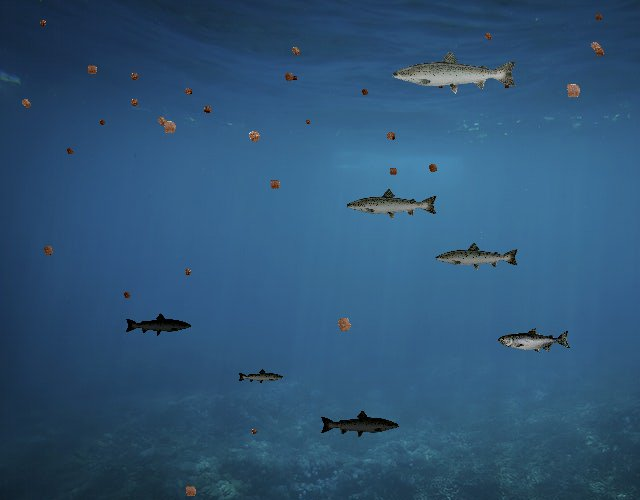Fish: (390, 49, 519, 95), (345, 187, 439, 221), (434, 241, 520, 272), (319, 410, 400, 439), (498, 327, 571, 354), (125, 312, 193, 337), (238, 369, 285, 386)
Pellet: (242, 124, 267, 149), (179, 480, 202, 500), (180, 265, 195, 280), (120, 288, 134, 302), (36, 16, 50, 30), (248, 425, 260, 437)
